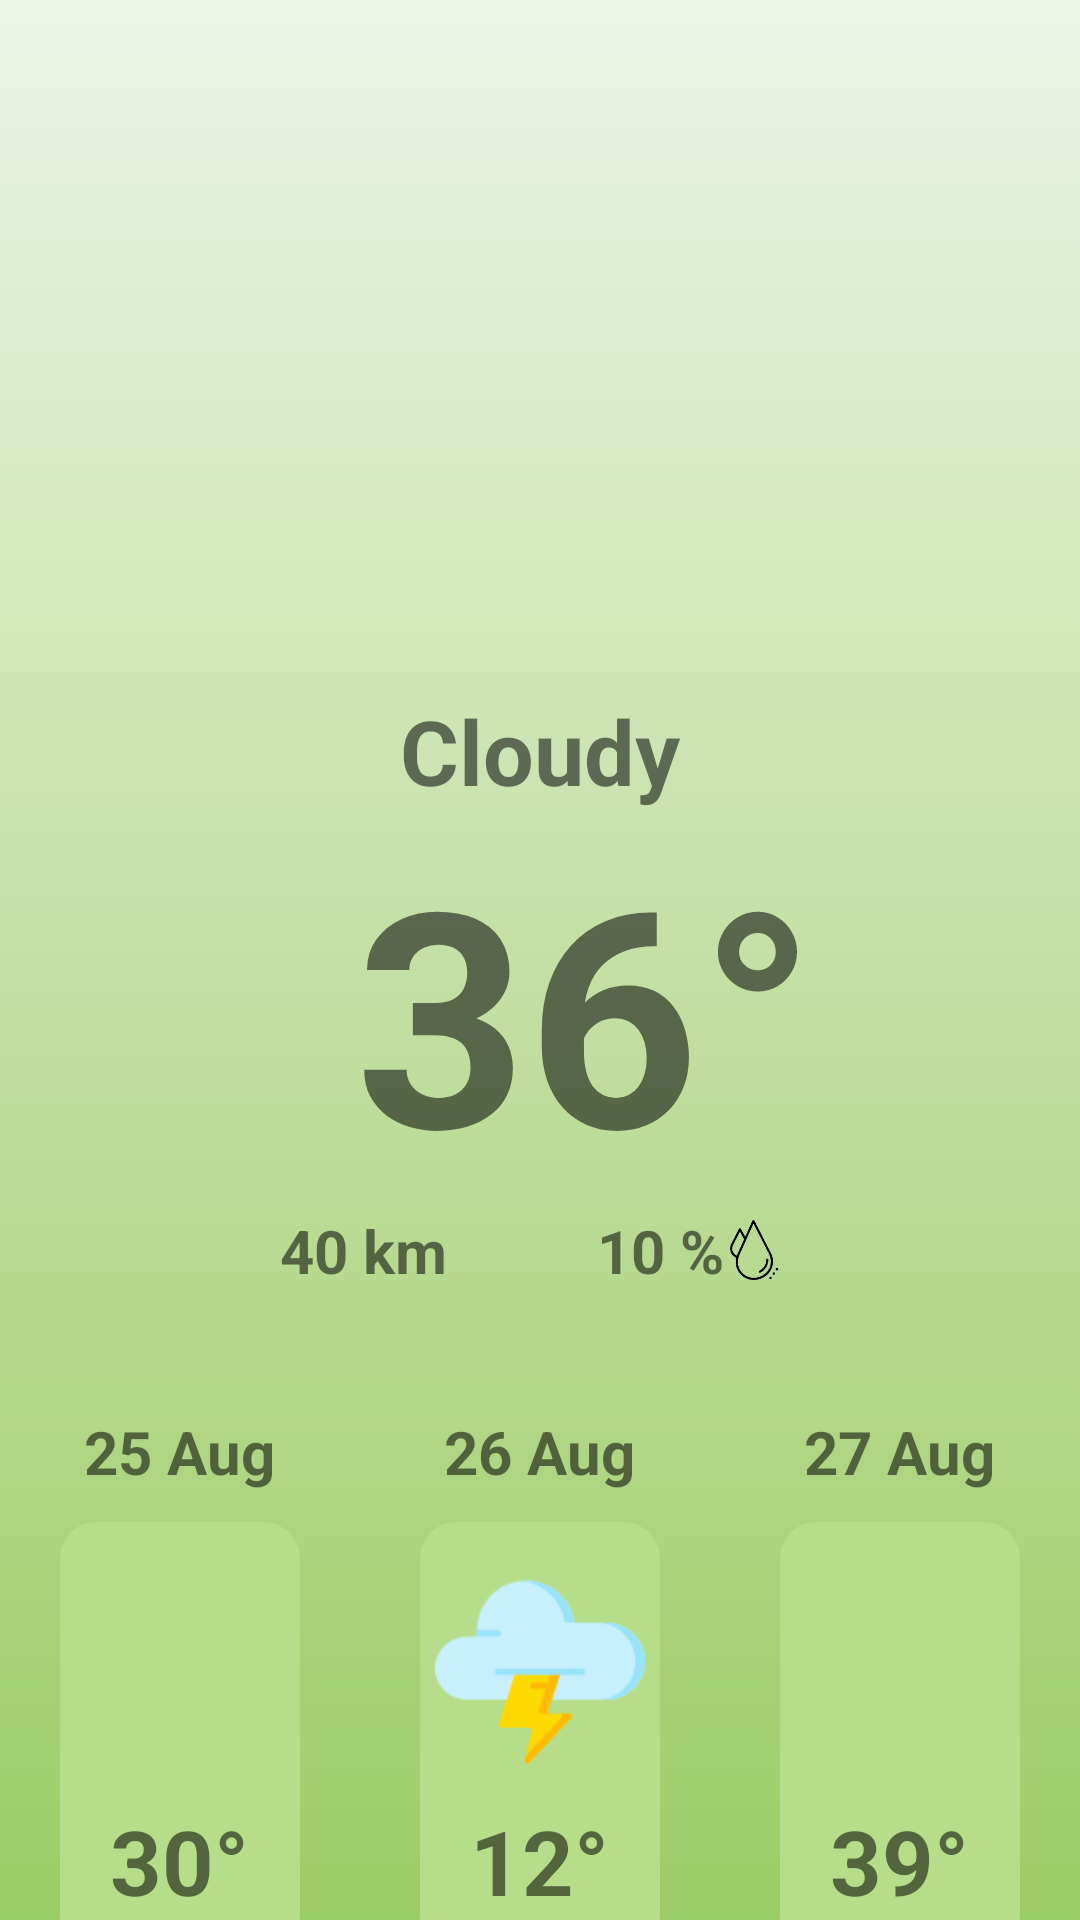

Where icons sit on this 1080w x 1920h app screen, as (x1,y1,x2,y2):
humidity: (730,1220,778,1280)
thunder: (435,1580,645,1764)
